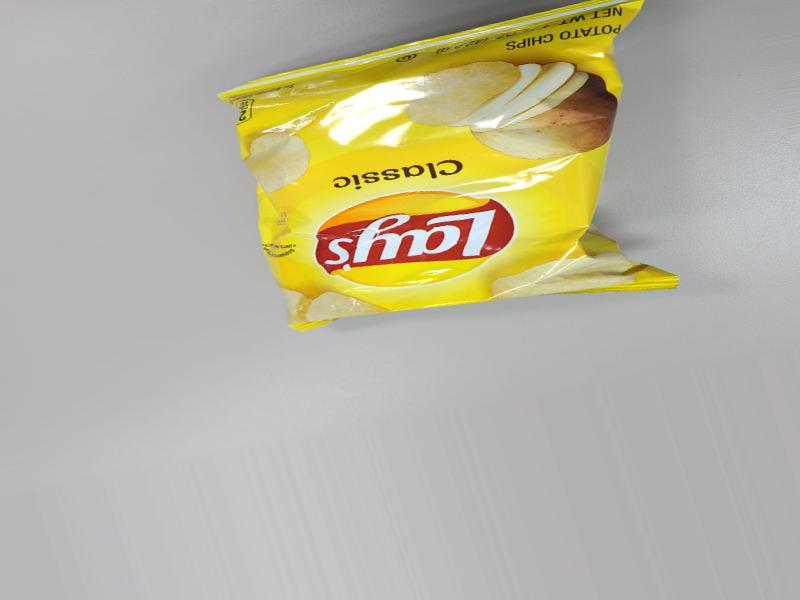lays: (312, 36, 616, 298)
